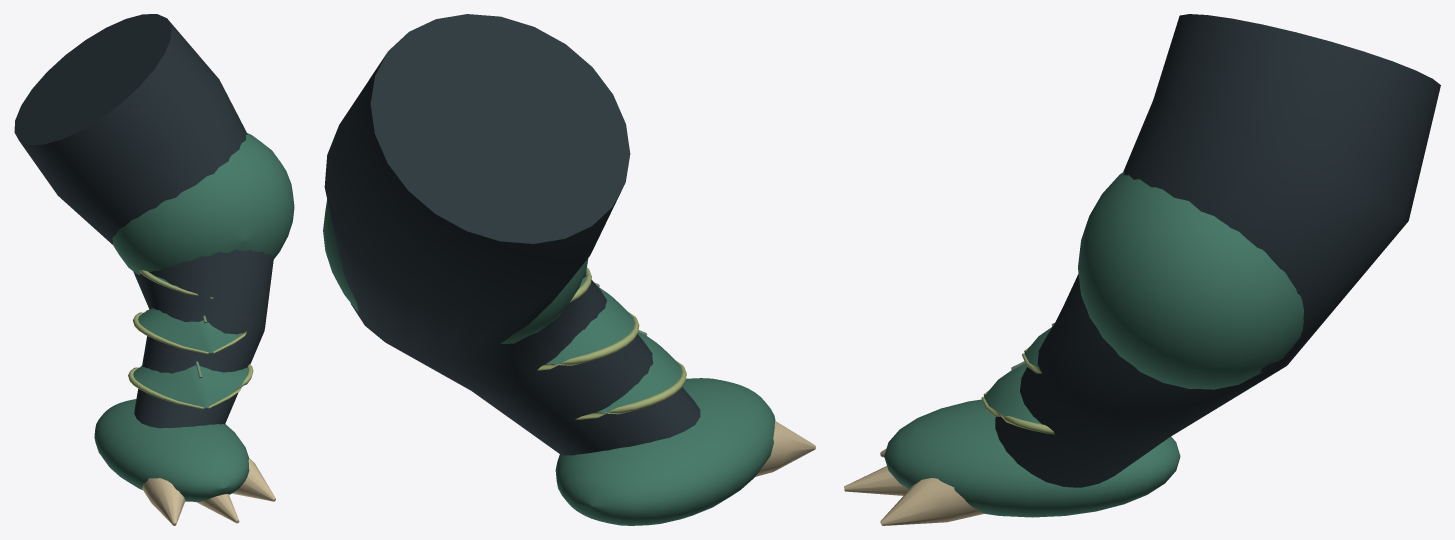
File: titan_leg.glb
3 renders of one model, left to right at view 1: azimuth 30°, elevation 25°; view 2: azimuth 150°, elevation 25°; view 3: azimuth 270°, elevation 25°, orthographic. The views are drawn at different scales.
Visible parts, largest first — view 1: titan_leg; view 2: titan_leg; view 3: titan_leg.
Boxes of the visible parts, <box> form: titan_leg: <box>14,14,294,525</box>; titan_leg: <box>323,14,815,525</box>; titan_leg: <box>844,14,1440,525</box>.
Size of the model in its own units: 6.48 by 10.19 by 10.33.
